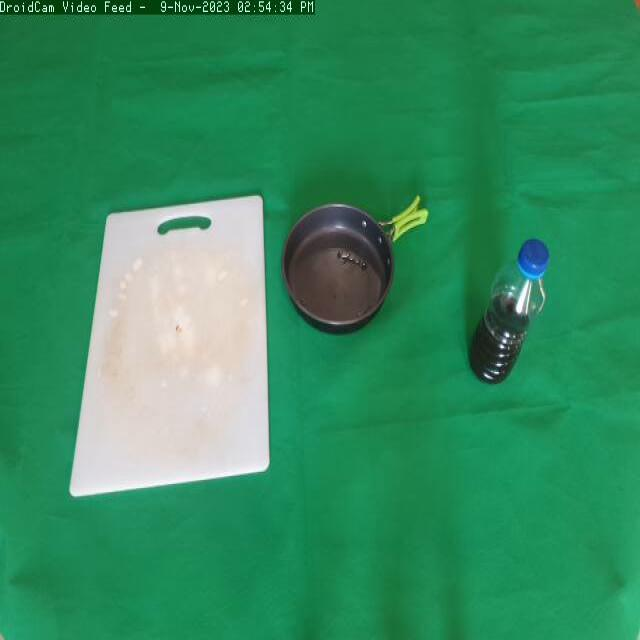cutting board: (69, 187, 270, 508)
fullbottle: (463, 226, 562, 418)
pan: (271, 179, 427, 344)
